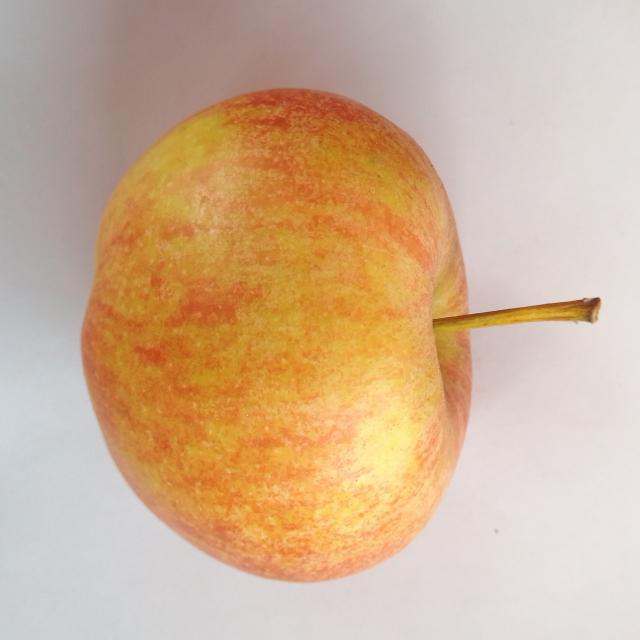Fresh Apple: (79, 98, 474, 577)
